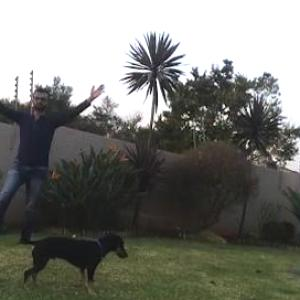takeoff: (0, 88, 97, 222)
